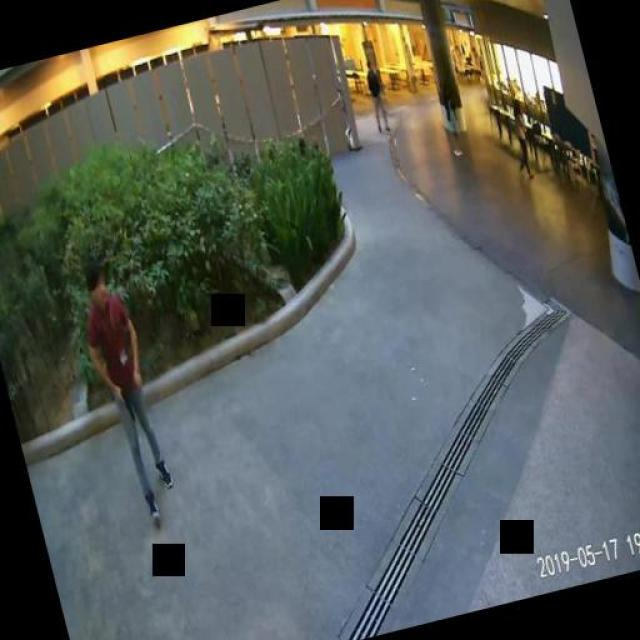gun: (112, 385, 134, 424)
